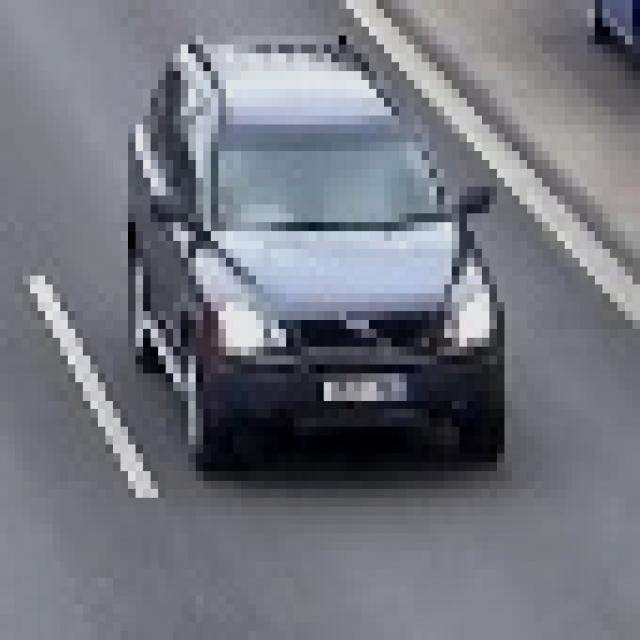SUV: (149, 44, 497, 452)
